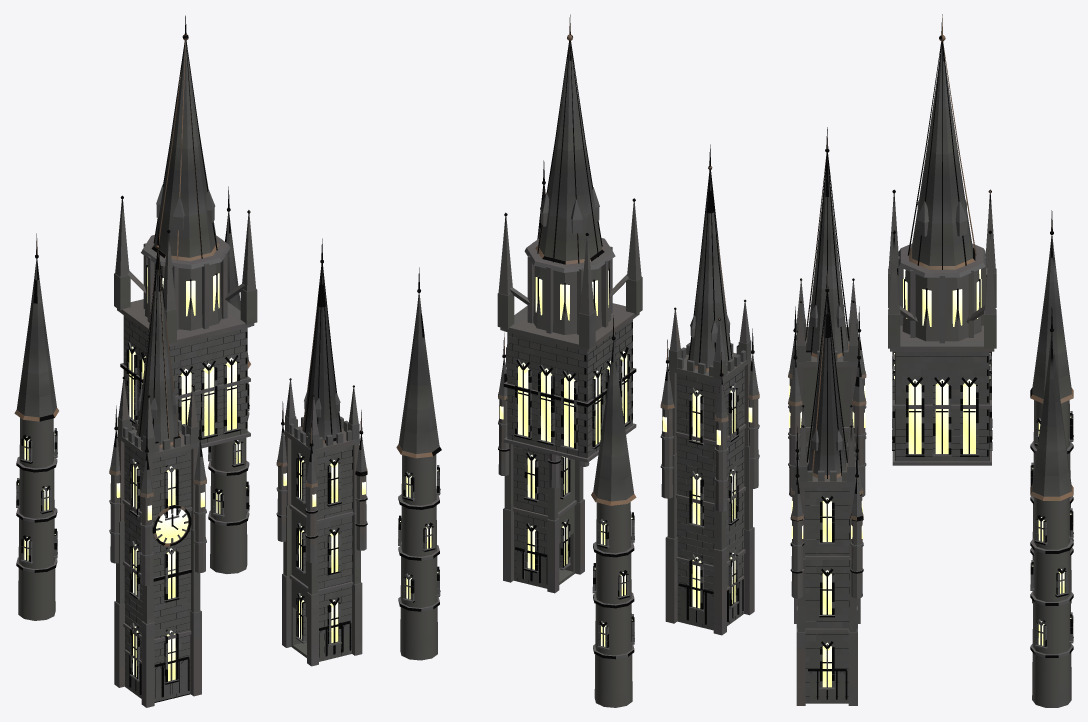
The model's file is gothic_towers.glb.
3 renders of one model, left to right at view 1: azimuth 30°, elevation 25°; view 2: azimuth 150°, elevation 25°; view 3: azimuth 270°, elevation 25°, orthographic. The views are drawn at different scales.
Parts seen in each view (by area): view 1: main, glow; view 2: main, glow; view 3: main, glow.
Part boxes in pixels (box(x1,y1,x2,y2)): main: box(14, 15, 367, 707); glow: box(18, 267, 365, 681); main: box(396, 14, 759, 707); glow: box(400, 270, 752, 646); main: box(788, 14, 1073, 707); glow: box(789, 269, 1071, 687).
Size of the model in its own units: 26.42 by 67.4 by 27.34.
Materials: 3 (1 with a texture image).
